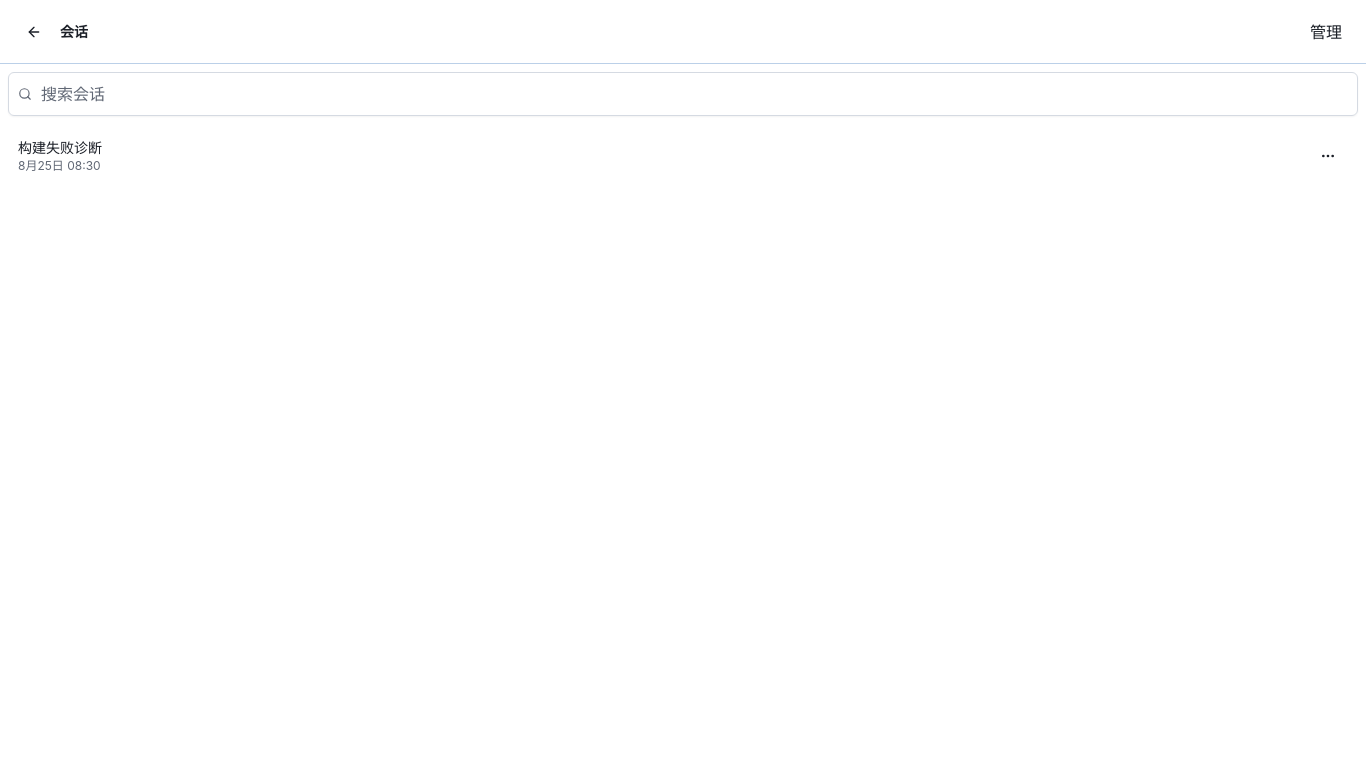
Test: ai assistant route page › replaces a responsive direct conversation entry with chat before returning to the workspace
Click the button named "返回" at (34, 32), box [12,10,56,54]
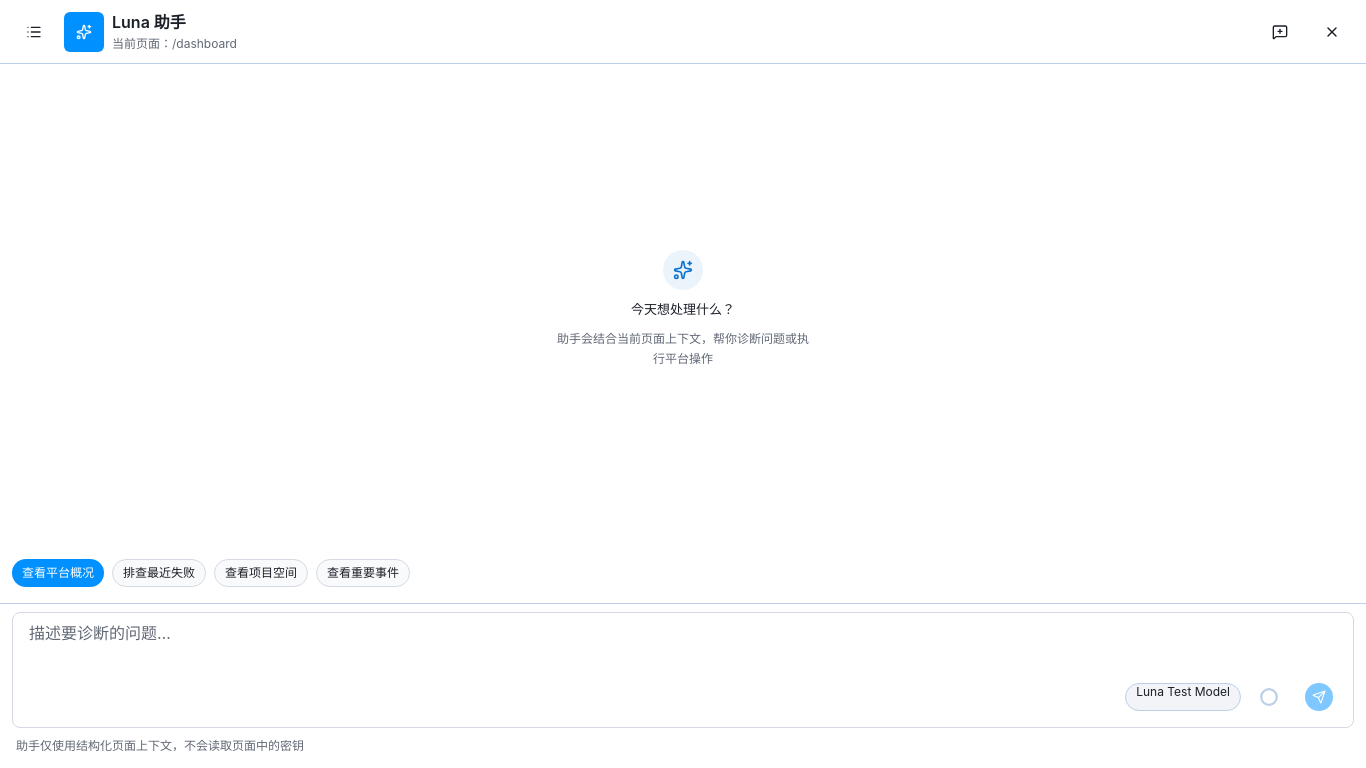
Now the element that starts with "Luna 助手" is shown
Click the button named "返回工作区" at (1332, 32), box [1310,10,1354,54]
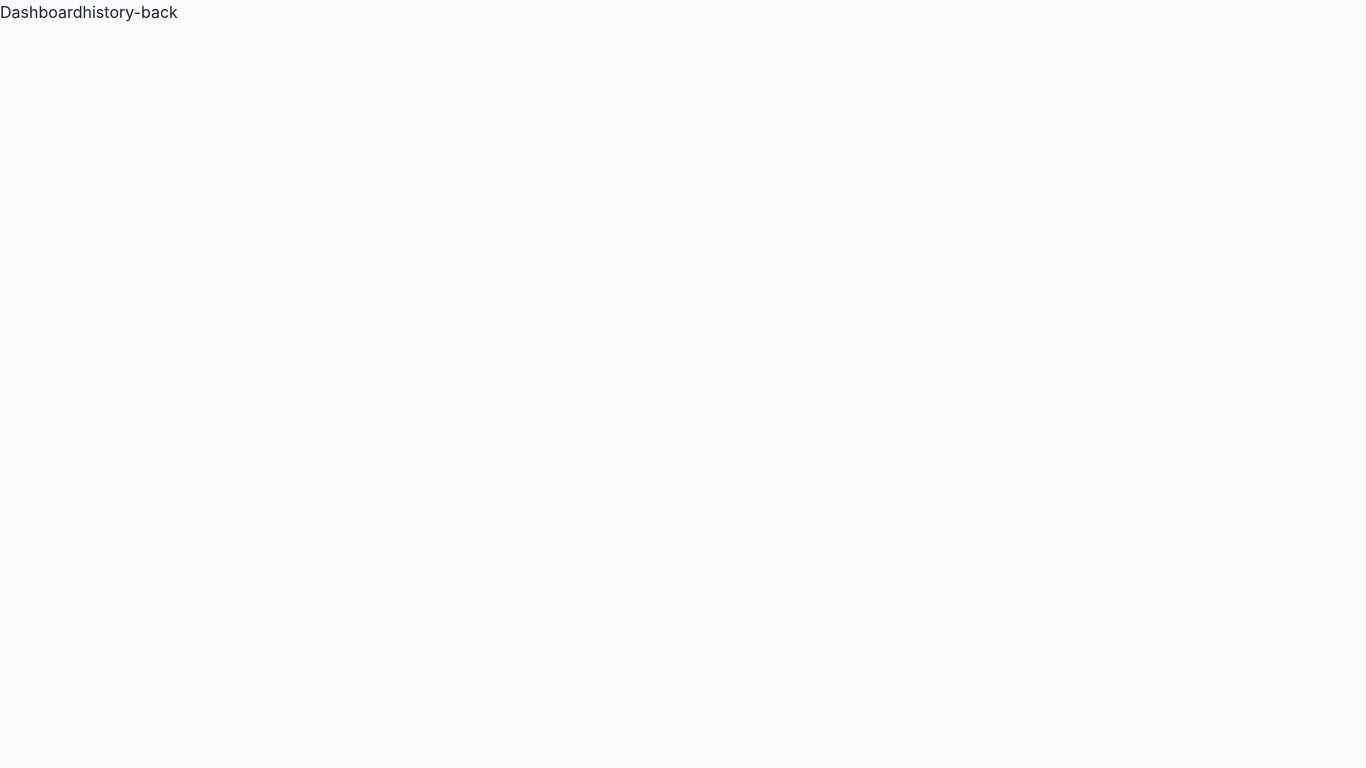
Now the element with test id "dashboard-route" is shown, box [0,0,178,24]
